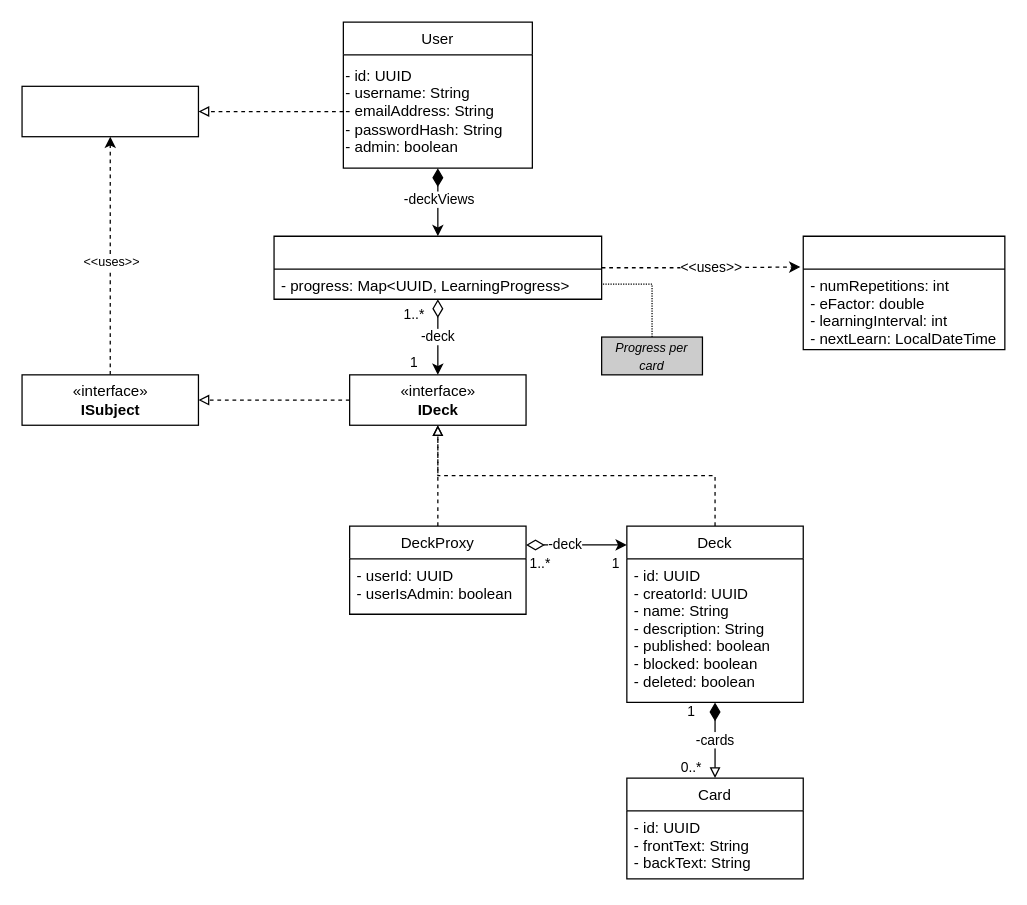
Some shapes in this 1027 by 905 pixel diagram are drawn without their labels. Each missing label, with the box of its shape:
DeckView: (273, 235, 602, 299)
LearningProgress: (802, 235, 1005, 350)
«interface» IObserver: (21, 85, 198, 137)
